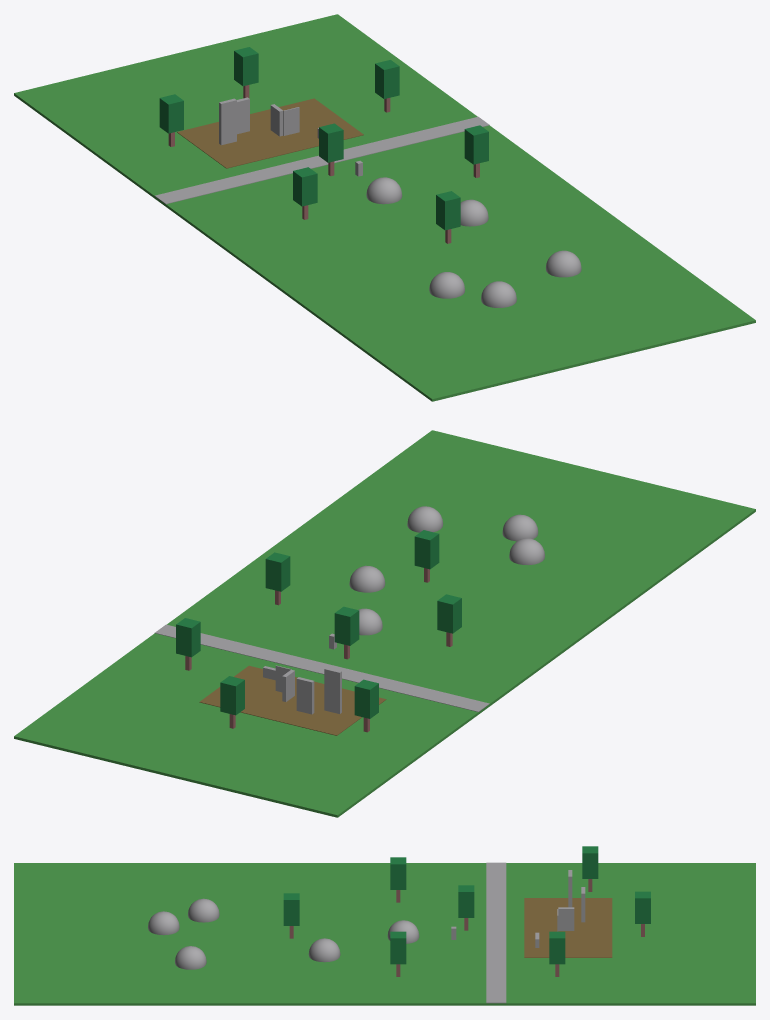
The model's file is demoMap1.glb.
3 views of the same model, one above another, from view 1: azimuth 30°, elevation 25°; view 2: azimuth 150°, elevation 25°; view 3: azimuth 270°, elevation 25° (orthographic). The views are drawn at different scales.
Visible parts, largest first — view 1: Part28, Part11, Part26, Part12, Part14, Part22, Part16, Part20, Part24, Part18, Part3, Part5 (+4 smaller); view 2: Part28, Part11, Part26, Part20, Part24, Part12, Part22, Part14, Part16, Part18, Part1, Part4 (+4 smaller); view 3: Part28, Part11, Part26, Part1, Part4, Part3, Part2, Part18, Part20, Part12, Part14, Part22 (+4 smaller).
Part boxes in pixels (<box>): Part28: <box>14,14,755,401</box>; Part11: <box>177,98,363,168</box>; Part26: <box>155,116,489,204</box>; Part12: <box>436,191,460,230</box>; Part14: <box>159,94,183,133</box>; Part22: <box>293,167,317,206</box>; Part16: <box>234,47,258,86</box>; Part20: <box>464,125,488,164</box>; Part24: <box>319,123,343,162</box>; Part18: <box>375,60,399,98</box>; Part3: <box>545,250,581,277</box>; Part5: <box>366,177,402,204</box>; Part28: <box>14,430,755,817</box>; Part11: <box>199,665,386,735</box>; Part26: <box>155,624,489,712</box>; Part20: <box>265,552,290,591</box>; Part24: <box>334,606,359,645</box>; Part12: <box>414,530,439,569</box>; Part22: <box>437,594,461,633</box>; Part14: <box>354,679,378,718</box>; Part16: <box>220,676,244,715</box>; Part18: <box>176,618,200,657</box>; Part1: <box>509,538,544,565</box>; Part4: <box>349,565,385,592</box>; Part28: <box>14,863,755,1005</box>; Part11: <box>524,898,612,957</box>; Part26: <box>486,862,506,1003</box>; Part1: <box>187,898,219,922</box>; Part4: <box>308,938,340,962</box>; Part3: <box>175,946,206,969</box>; Part2: <box>148,911,179,935</box>; Part18: <box>549,931,565,964</box>; Part20: <box>390,931,406,964</box>; Part12: <box>283,893,299,925</box>; Part14: <box>582,846,598,878</box>; Part22: <box>390,857,406,889</box>.
Bounding box in the file's own units: 133 × 24 × 297.
